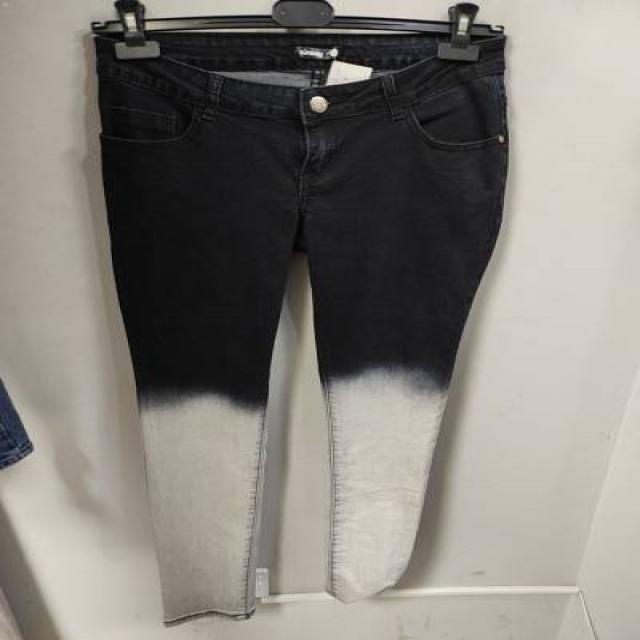Clothes -Biodegradable-: (92, 14, 509, 625)
